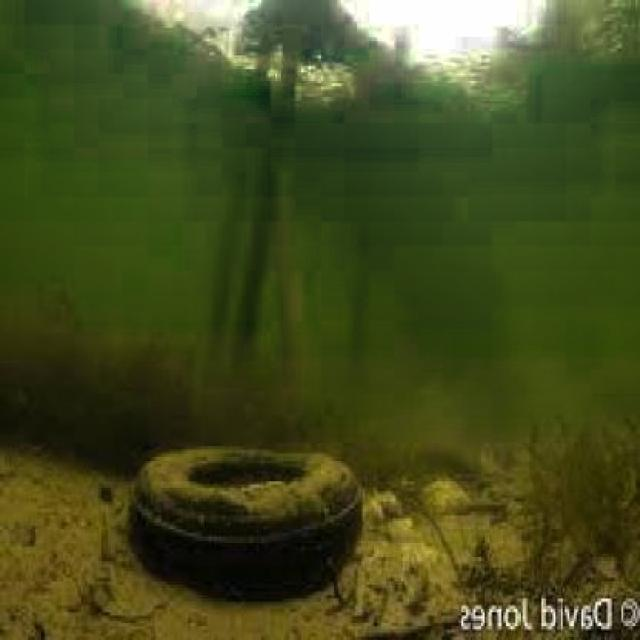tire: (136, 422, 367, 612)
